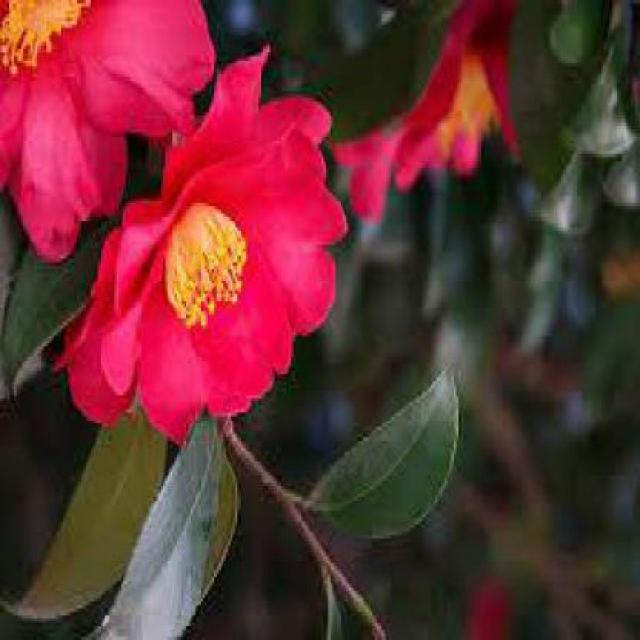flower: (61, 48, 352, 430), (6, 0, 224, 258)
